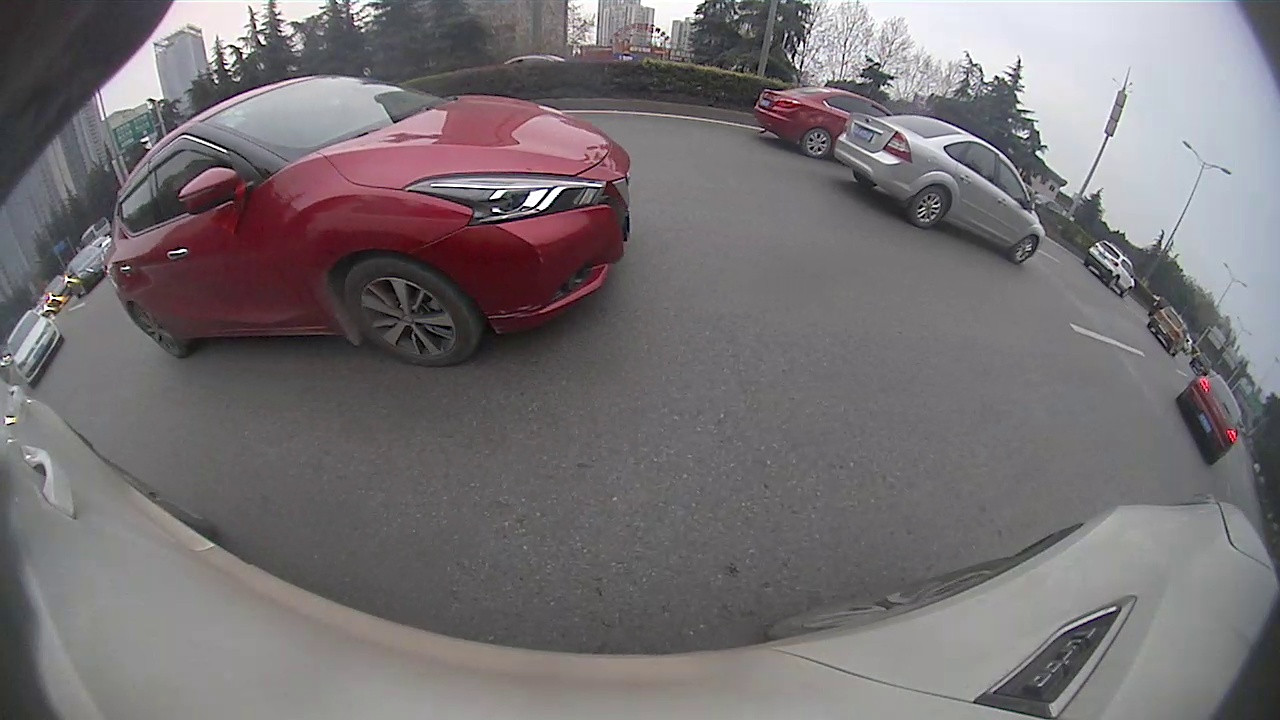car: (103, 77, 632, 367), (832, 109, 1046, 264), (752, 84, 885, 160), (1176, 368, 1244, 464), (5, 309, 64, 388), (1086, 237, 1137, 297), (1148, 305, 1189, 359)
front: (342, 254, 482, 368), (1011, 235, 1038, 266)
rear: (129, 302, 194, 362), (910, 186, 948, 230), (803, 126, 832, 160)
